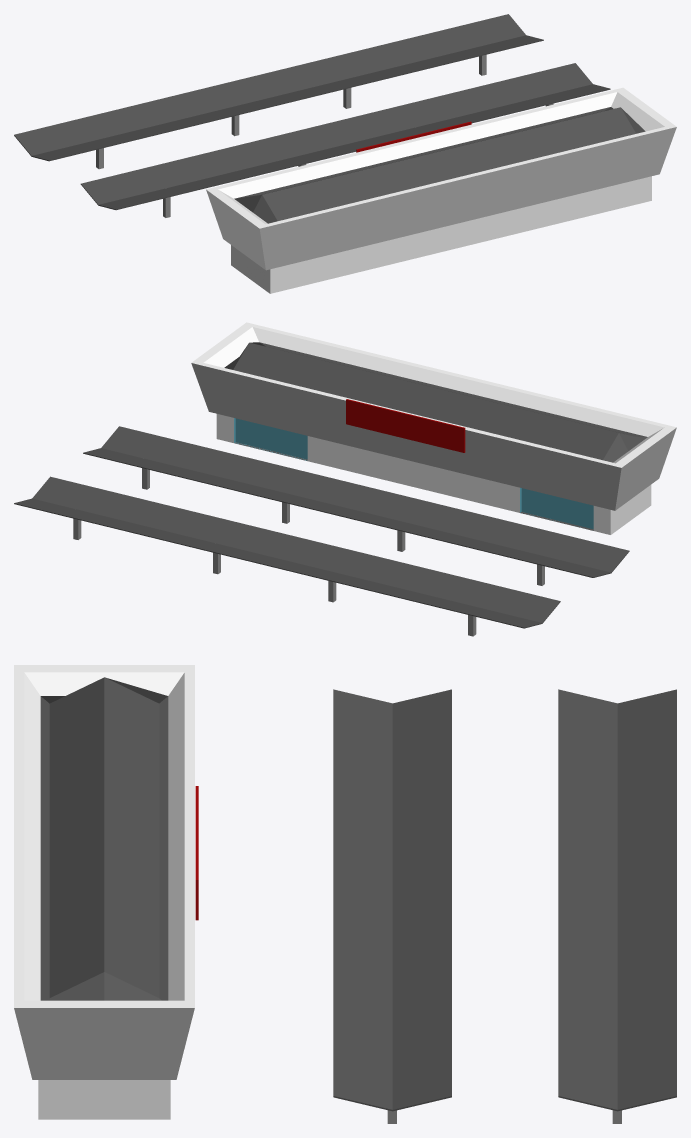
File: market.fbx
3 renders of one model, top to bottom at view 1: azimuth 30°, elevation 25°; view 2: azimuth 150°, elevation 25°; view 3: azimuth 270°, elevation 25°, orthographic. The views are drawn at different scales.
Parts seen in each view (by area): view 1: Cube, Cube.002, Cube.003; view 2: Cube, Cube.002, Cube.003; view 3: Cube.002, Cube.
Boxes of the visible parts, x1,y1,x2,y2 form: Cube: [206, 87, 676, 293]; Cube.002: [14, 14, 610, 217]; Cube.003: [356, 121, 471, 152]; Cube: [191, 322, 676, 534]; Cube.002: [14, 426, 629, 636]; Cube.003: [346, 399, 465, 452]; Cube.002: [333, 689, 676, 1123]; Cube: [14, 665, 194, 1119].
Bounding box in the file's own units: 4003 × 634 × 2759.
